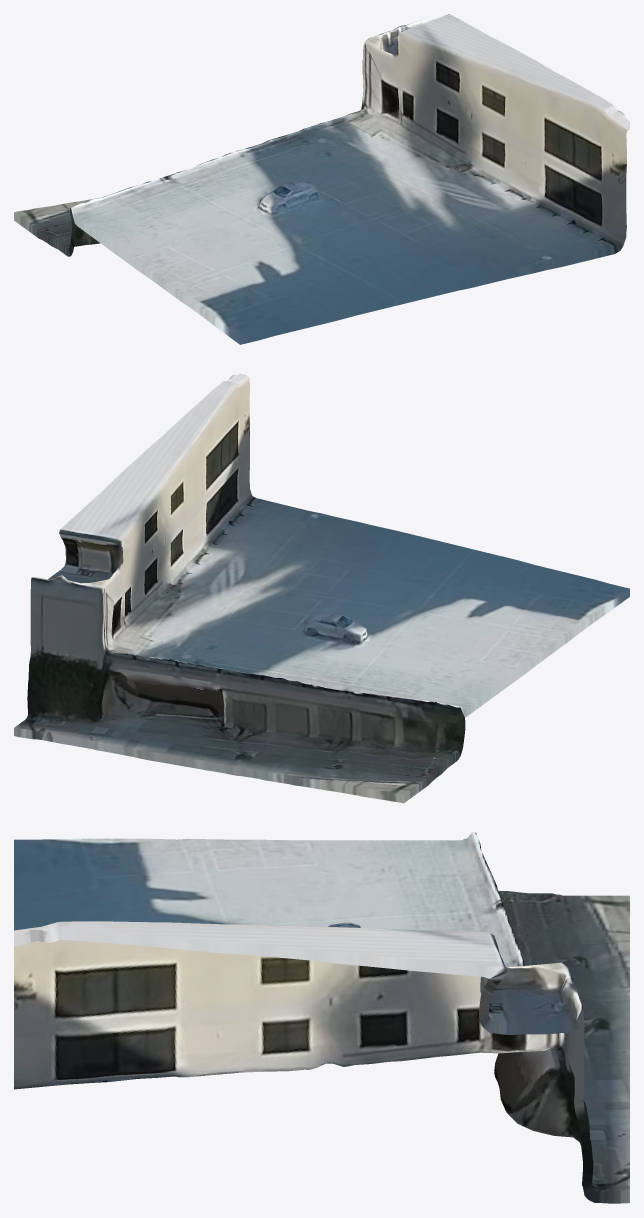
The model's file is z20-167740-405198-h0-yup-uvflip-v3-world.glb.
3 views of the same model, one above another, from view 1: azimuth 30°, elevation 25°; view 2: azimuth 150°, elevation 25°; view 3: azimuth 270°, elevation 25° (orthographic). The views are drawn at different scales.
Bounding box in the file's own units: 30.16 × 14.96 × 30.32.
1 material, 1 textured.
